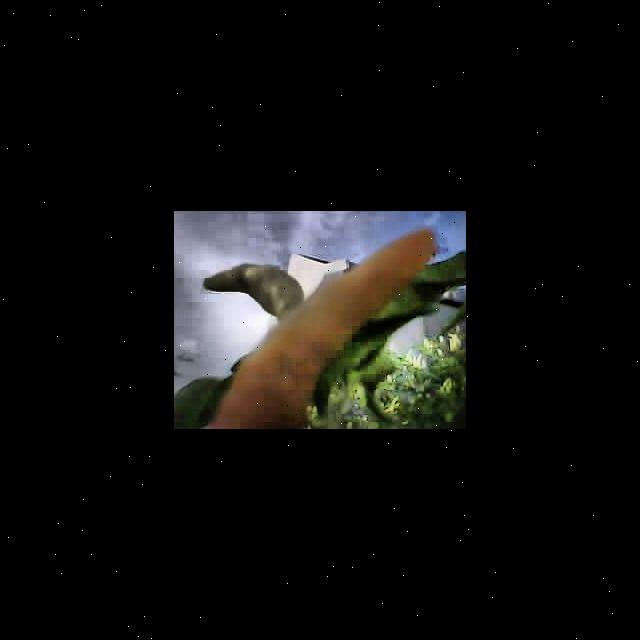Cabai: (314, 233, 418, 319)
